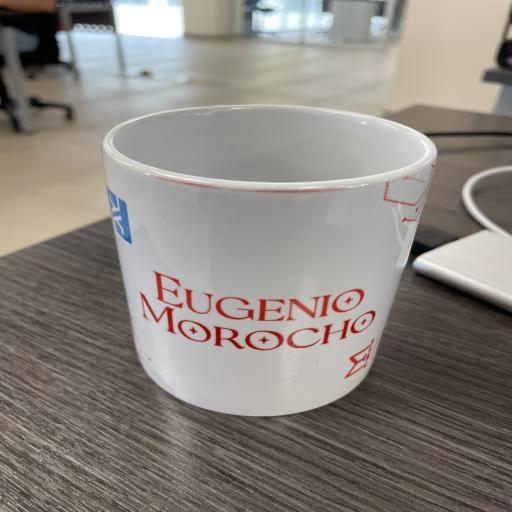cup: (98, 100, 439, 422)
